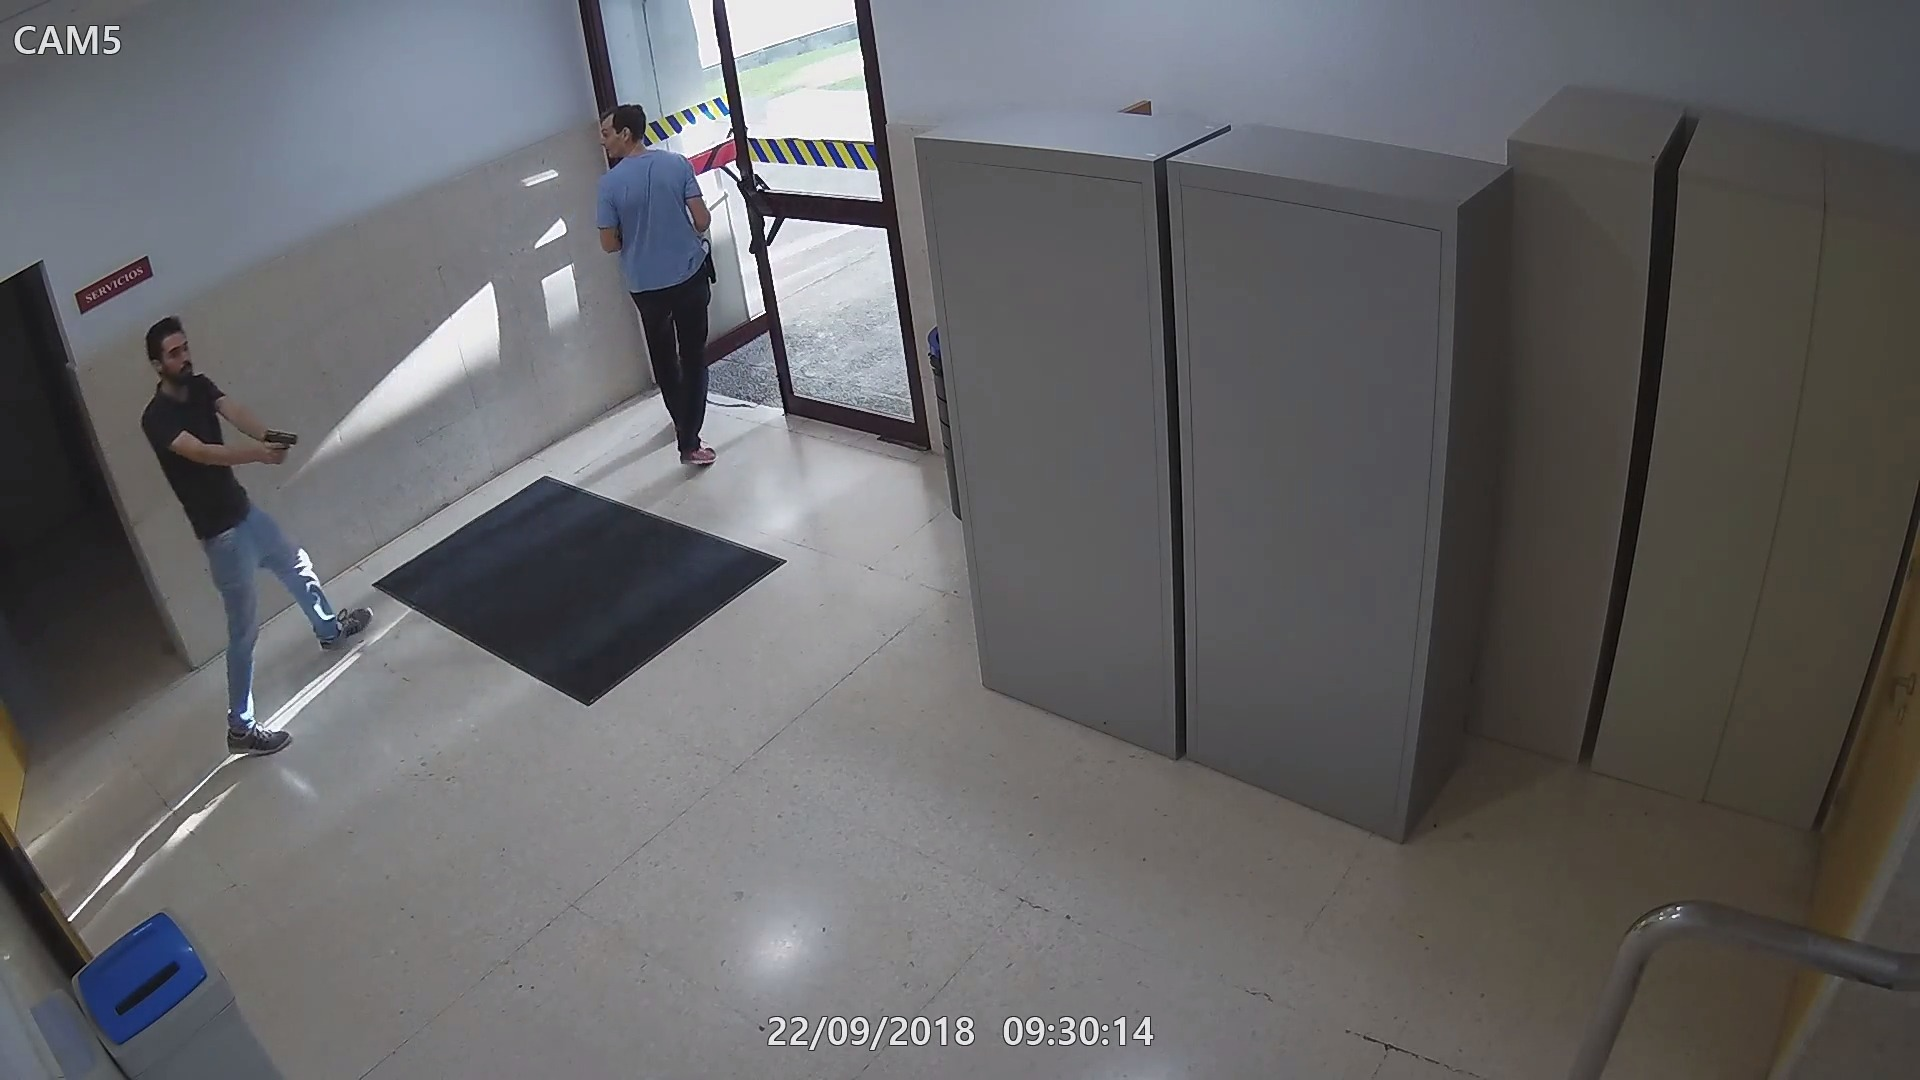Handgun: (258, 429, 298, 467)
